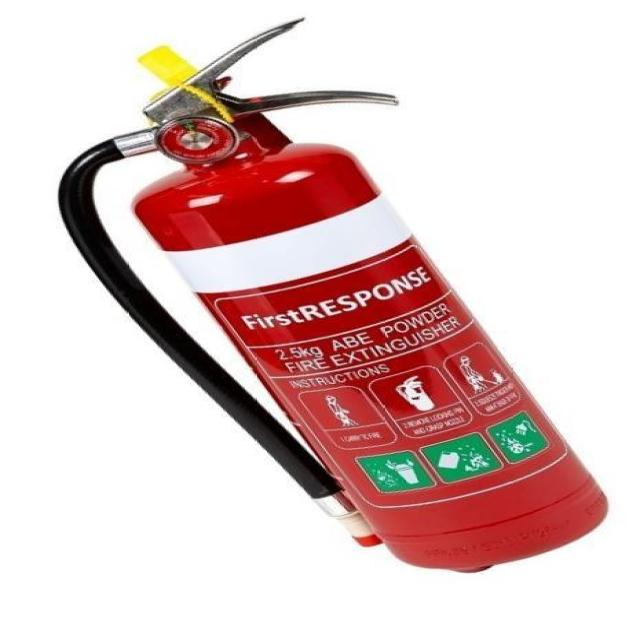fire_extinguisher: (47, 11, 618, 574)
